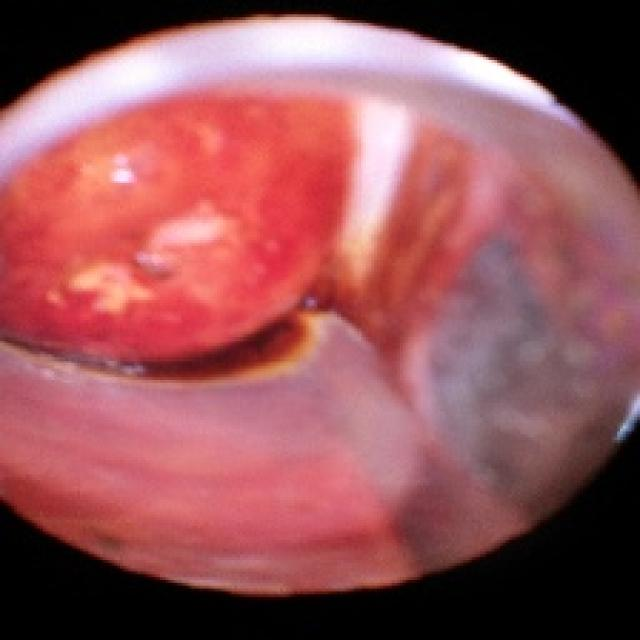type-3: (0, 54, 606, 583)
